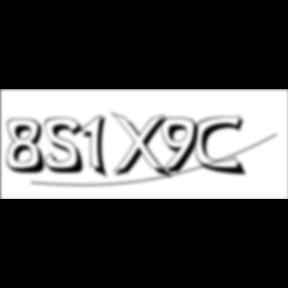1: (78, 114, 114, 182)
8: (7, 117, 52, 176)
9: (160, 117, 206, 177)
C: (196, 115, 251, 178)
S: (45, 117, 91, 176)
X: (111, 112, 175, 182)
